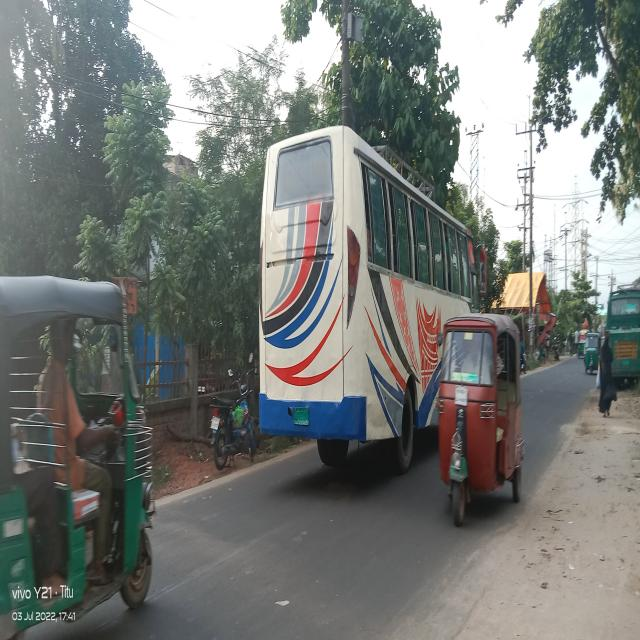bus: (244, 111, 443, 494)
